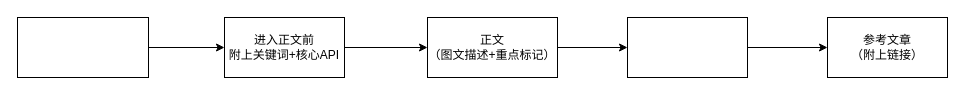
Some shapes in this 965 by 95 pixel diagram are drawn without their labels. The centre of each missing label's shape, as x and y in pixels:
"开篇 （浓缩观点+说明情况）" goes at point 82,47.
"结尾 （概括或拓展）" goes at point 687,47.
